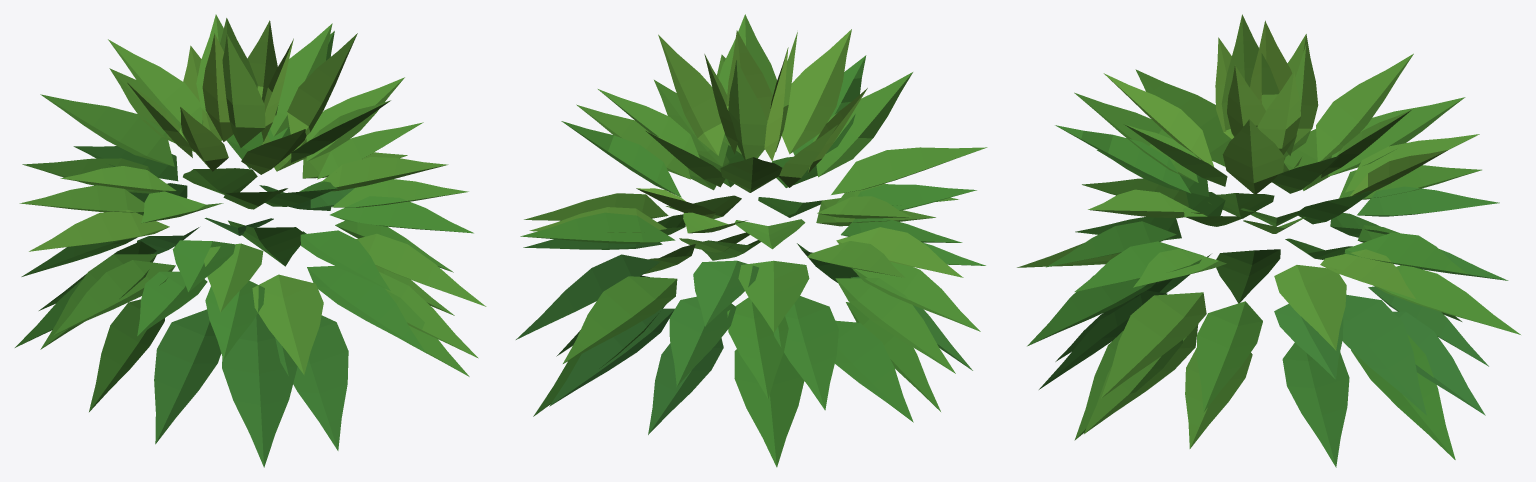
File: leafbush_v2.glb
3 views of the same model, side by side, from view 1: azimuth 30°, elevation 25°; view 2: azimuth 150°, elevation 25°; view 3: azimuth 270°, elevation 25° (orthographic). The views are drawn at different scales.
Visible parts, largest first — view 1: leafbush_v2_leaves_LOD0; view 2: leafbush_v2_leaves_LOD0; view 3: leafbush_v2_leaves_LOD0.
Part boxes in pixels (x1,y1,x2,y2): leafbush_v2_leaves_LOD0: (15,14,486,467); leafbush_v2_leaves_LOD0: (516,14,987,467); leafbush_v2_leaves_LOD0: (1017,14,1520,467).
Size of what is drawn, in the model's own units: 1.49 by 1.24 by 1.52.
